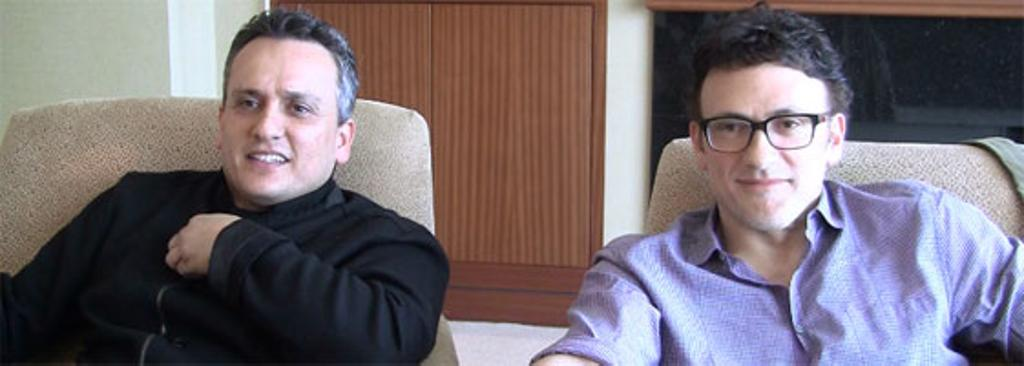face: (702, 64, 828, 238), (226, 36, 336, 200)
